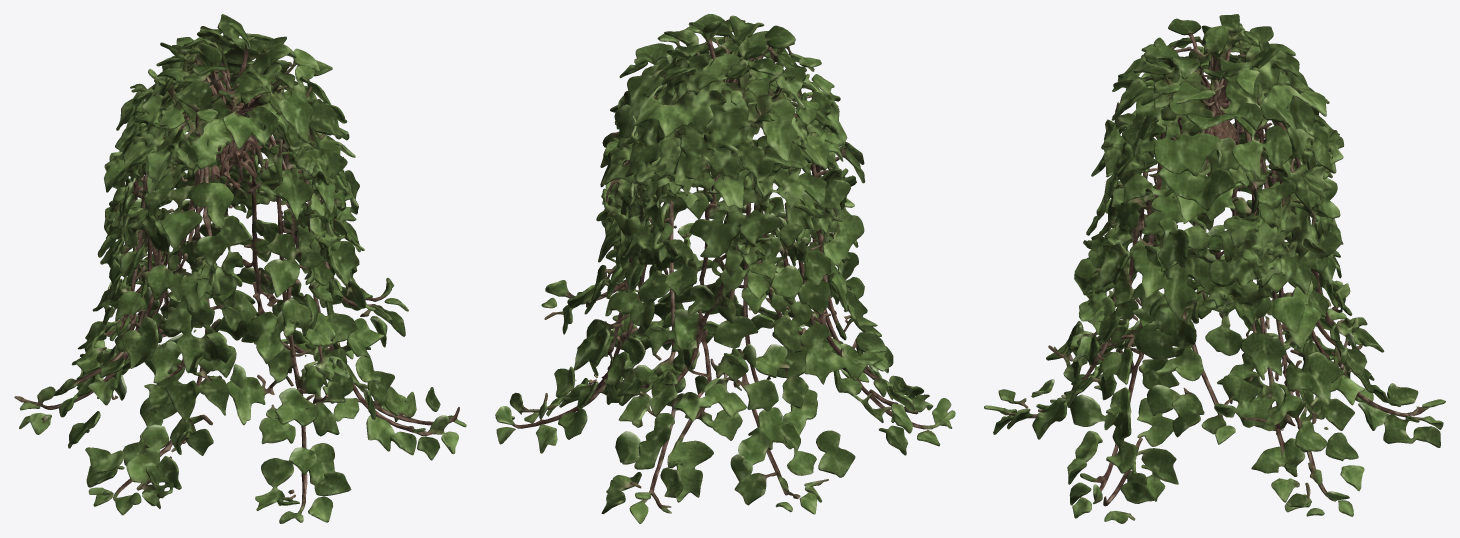
File: ivy-cascade.glb
3 views of the same model, side by side, from view 1: azimuth 30°, elevation 25°; view 2: azimuth 150°, elevation 25°; view 3: azimuth 270°, elevation 25° (orthographic).
Parts seen in each view (by area): view 1: world; view 2: world; view 3: world.
Part boxes in pixels (x1,y1,x2,y2): world: (14,14,466,523); world: (495,14,955,523); world: (984,14,1445,523).
Size of the model in its own units: 0.8325 by 0.9 by 0.8999.
1 material, 1 textured.
